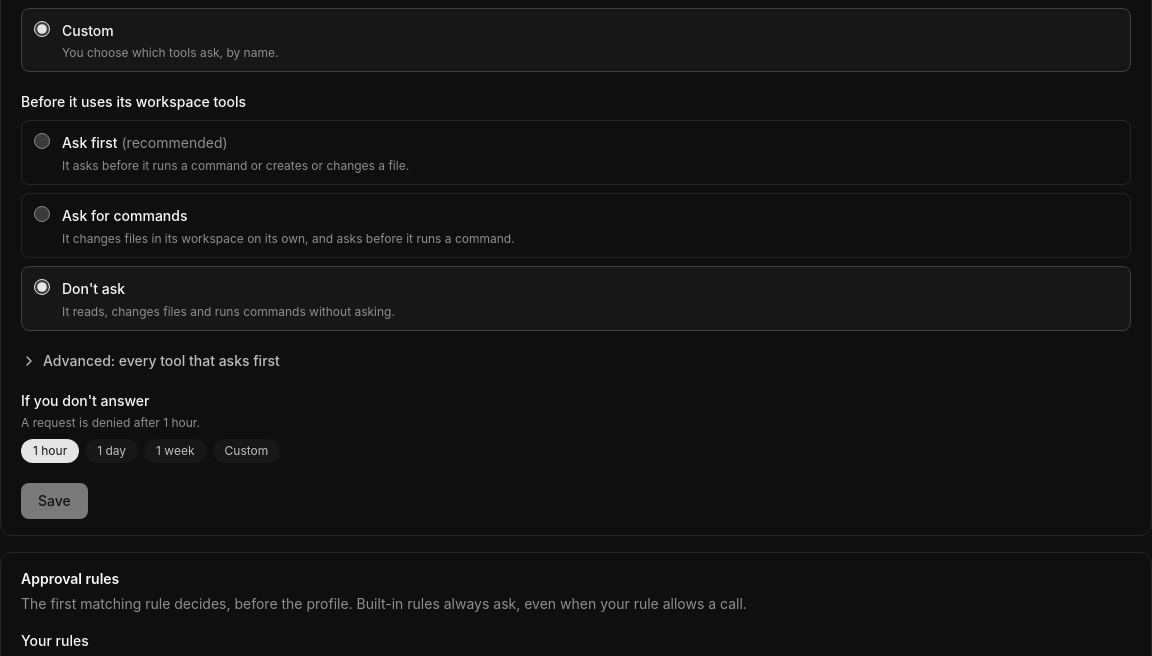
Agent tabs: saving says so › says "{name} saved." though the form is drawn again, and keeps Advanced open
(page scrolled)
Click the button "Advanced: every tool that asks first": (150, 360) x1=21 y1=350 x2=280 y2=370
(page scrolled)
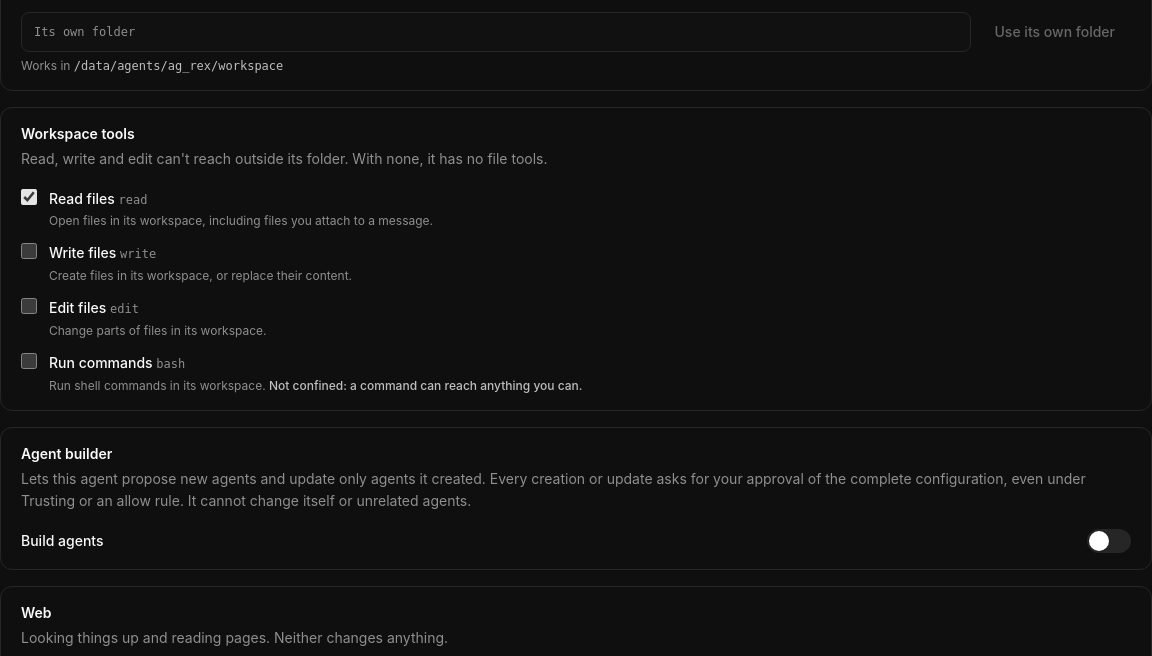
Click the checkbox labelled "Run commands bash": (29, 361) x1=21 y1=353 x2=37 y2=369
(page scrolled)
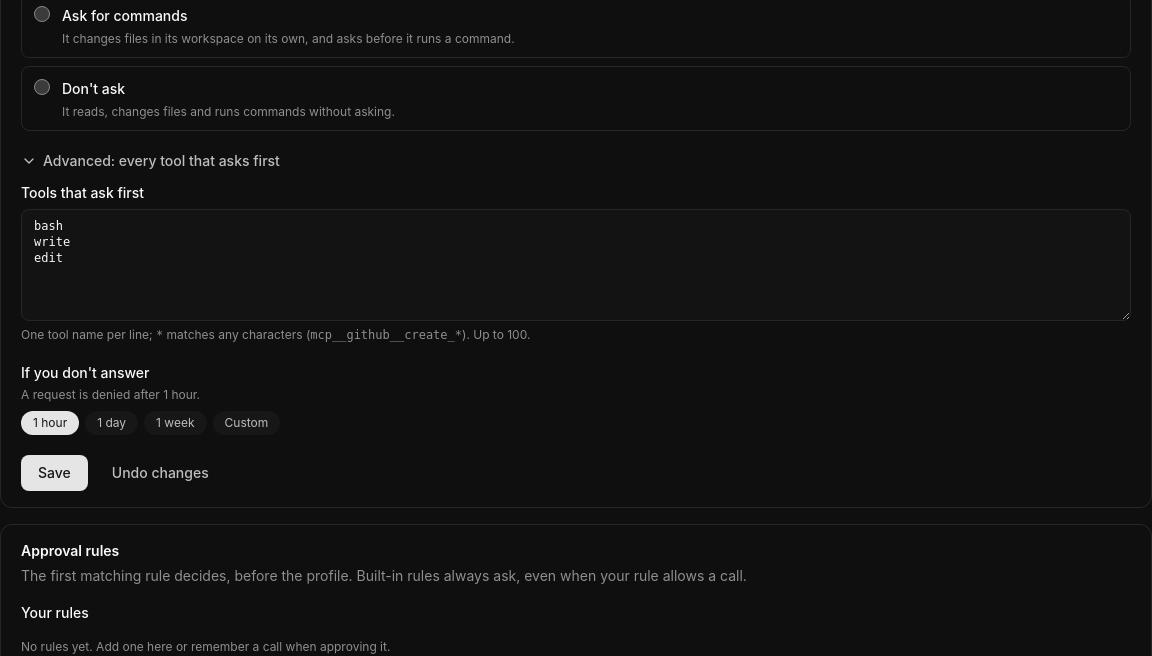
Click the button "Save": (54, 472) x1=21 y1=454 x2=88 y2=490
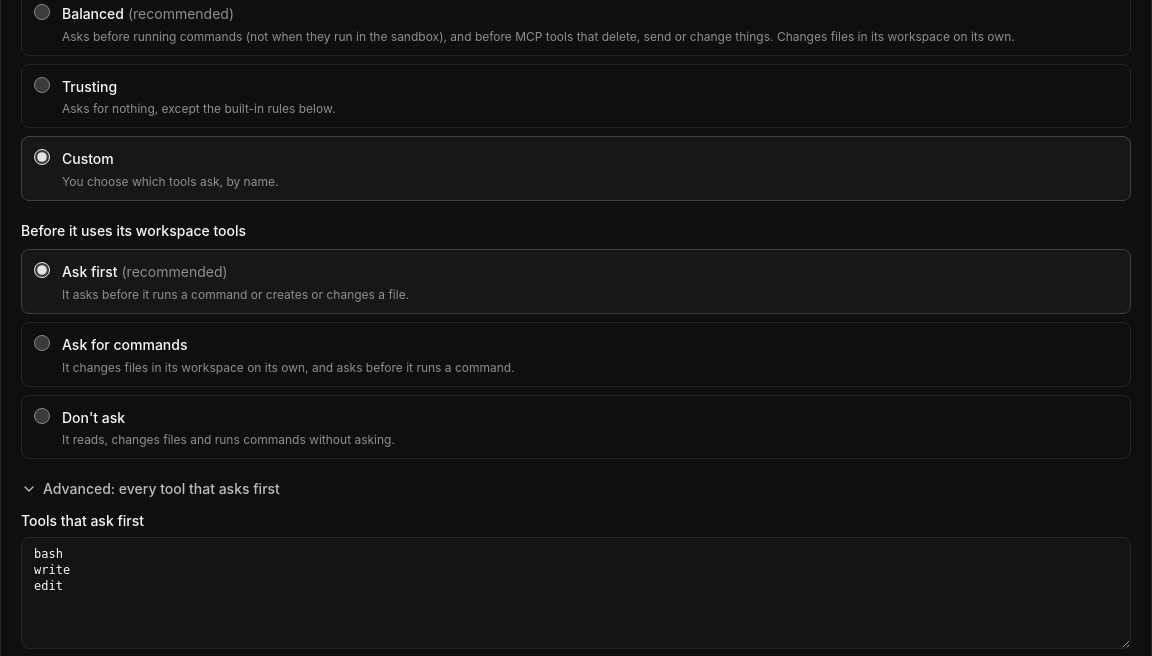
Check: the button "Advanced: every tool that asks first" is expanded, box x1=21 y1=479 x2=280 y2=499
Check: the text box labelled "Tools that ask first" is shown, box x1=21 y1=537 x2=1131 y2=649
